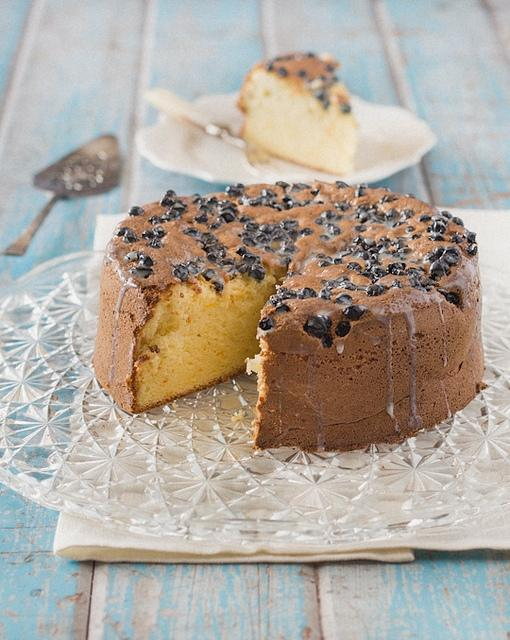blueberry: (304, 314, 332, 338), (428, 260, 451, 280), (342, 304, 369, 320), (439, 246, 461, 265), (248, 263, 266, 283), (278, 241, 300, 257), (130, 264, 154, 278), (219, 257, 238, 272), (334, 321, 350, 337), (122, 228, 138, 244), (173, 264, 189, 280), (186, 261, 203, 276), (297, 287, 318, 299), (242, 253, 261, 266), (199, 232, 218, 245), (180, 226, 200, 238), (259, 316, 275, 331), (146, 236, 164, 249), (279, 219, 298, 231), (334, 292, 353, 304), (202, 268, 218, 282), (220, 209, 236, 223), (241, 235, 258, 248), (364, 284, 382, 296), (445, 291, 460, 305), (318, 286, 333, 300), (290, 182, 311, 192), (404, 266, 425, 276), (226, 185, 242, 198), (244, 220, 261, 232), (276, 287, 296, 297), (236, 260, 250, 274), (194, 210, 208, 224), (320, 210, 337, 221), (139, 255, 153, 268), (388, 262, 406, 272), (320, 279, 338, 289), (114, 226, 130, 237), (265, 224, 282, 234), (256, 232, 270, 244), (400, 208, 414, 220), (466, 242, 478, 256), (433, 222, 447, 234), (462, 231, 476, 243), (129, 206, 145, 216), (346, 246, 359, 258), (211, 280, 224, 292), (248, 196, 262, 207), (275, 303, 290, 313), (152, 226, 164, 238), (339, 102, 351, 114), (298, 199, 316, 207), (260, 195, 272, 207), (164, 190, 176, 202), (141, 229, 154, 240), (379, 194, 393, 204), (417, 214, 432, 223), (409, 277, 421, 288), (376, 240, 389, 250), (206, 197, 219, 207), (428, 232, 444, 240), (298, 228, 314, 236), (276, 181, 290, 190), (451, 217, 463, 227), (288, 230, 298, 242), (304, 78, 314, 90), (208, 222, 223, 230), (392, 221, 408, 228), (259, 223, 270, 233), (353, 235, 364, 245), (238, 232, 256, 238), (397, 247, 412, 254), (371, 271, 386, 278), (371, 252, 381, 262), (296, 68, 306, 78), (396, 242, 407, 251), (282, 194, 293, 203), (339, 280, 355, 286), (334, 182, 349, 188), (349, 212, 360, 220), (318, 260, 329, 268), (378, 246, 390, 253), (356, 208, 368, 215), (278, 68, 287, 77), (442, 211, 452, 219), (192, 197, 203, 204), (204, 246, 215, 253), (270, 295, 281, 302), (322, 99, 329, 110), (264, 62, 273, 70), (380, 214, 389, 222), (226, 202, 238, 208), (371, 215, 381, 222), (357, 182, 368, 188), (360, 217, 368, 224), (320, 234, 329, 240), (325, 222, 334, 228), (406, 193, 416, 198), (327, 64, 334, 71), (332, 75, 338, 82), (285, 54, 292, 60), (202, 198, 208, 204), (307, 52, 314, 57), (322, 76, 326, 80)
